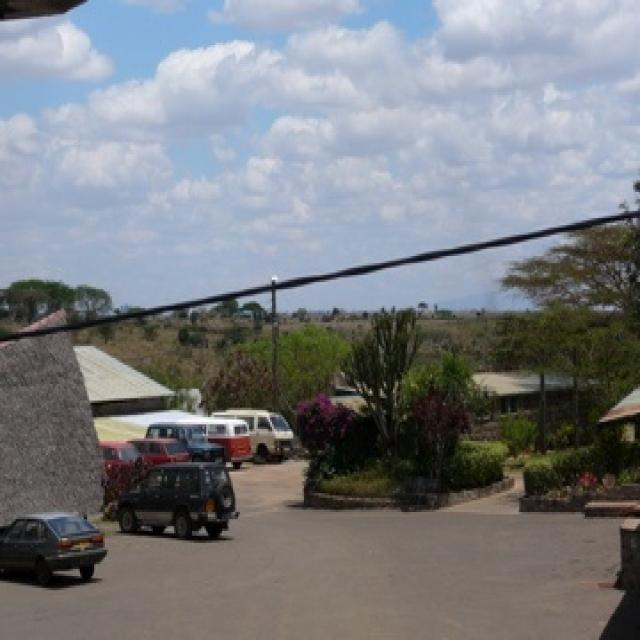car: (116, 460, 238, 545), (2, 510, 108, 590), (208, 405, 295, 467), (147, 424, 225, 467), (203, 415, 254, 467), (128, 436, 188, 465), (100, 441, 134, 476)
